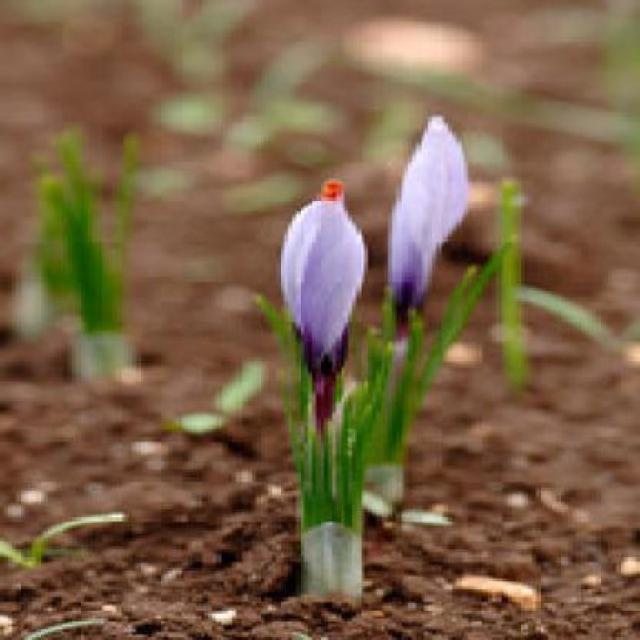saffron closed: (389, 116, 468, 321), (281, 199, 366, 369)
saffron open: (281, 180, 365, 434)
